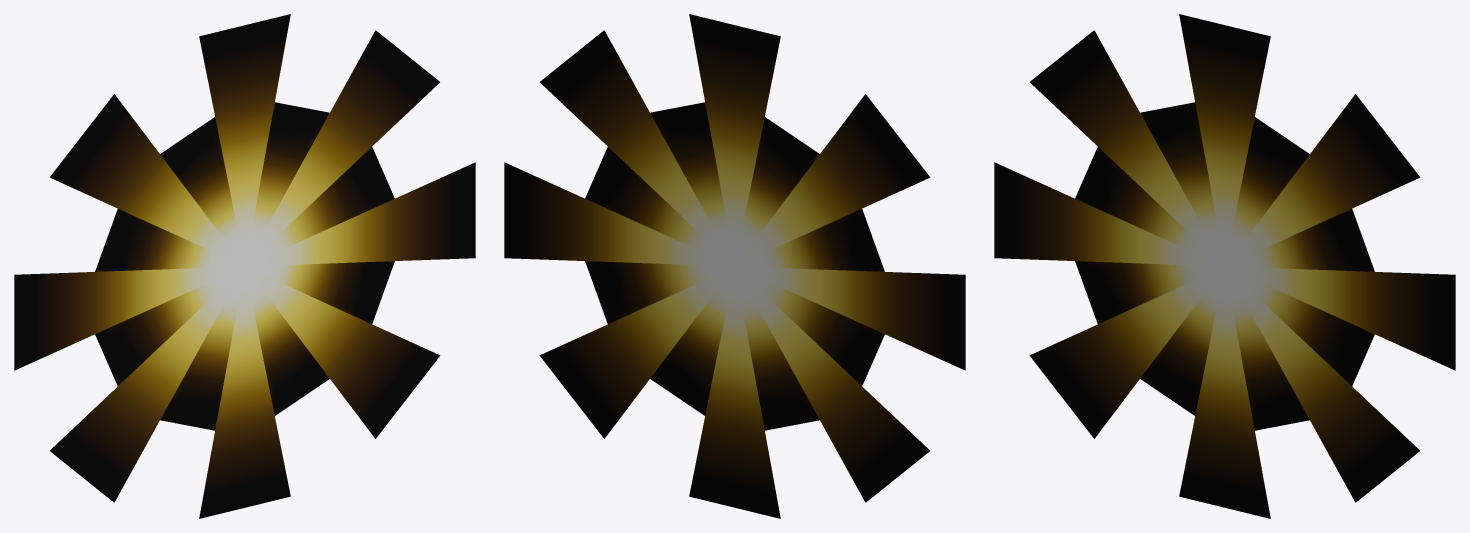
File: MysteryBoxPopup.fbx
The picture shows the model from 3 angles, left to right: view 1: azimuth 30°, elevation 25°; view 2: azimuth 150°, elevation 25°; view 3: azimuth 330°, elevation 25°; orthographic projection.
Visible parts, largest first — view 1: mysteryBox_glowEFX; view 2: mysteryBox_glowEFX; view 3: mysteryBox_glowEFX.
Boxes of the visible parts, x1,y1,x2,y2 form: mysteryBox_glowEFX: (14, 14, 475, 518); mysteryBox_glowEFX: (504, 14, 965, 518); mysteryBox_glowEFX: (994, 14, 1455, 518).
Size of the model in its own units: 403 by 403 by 0.
